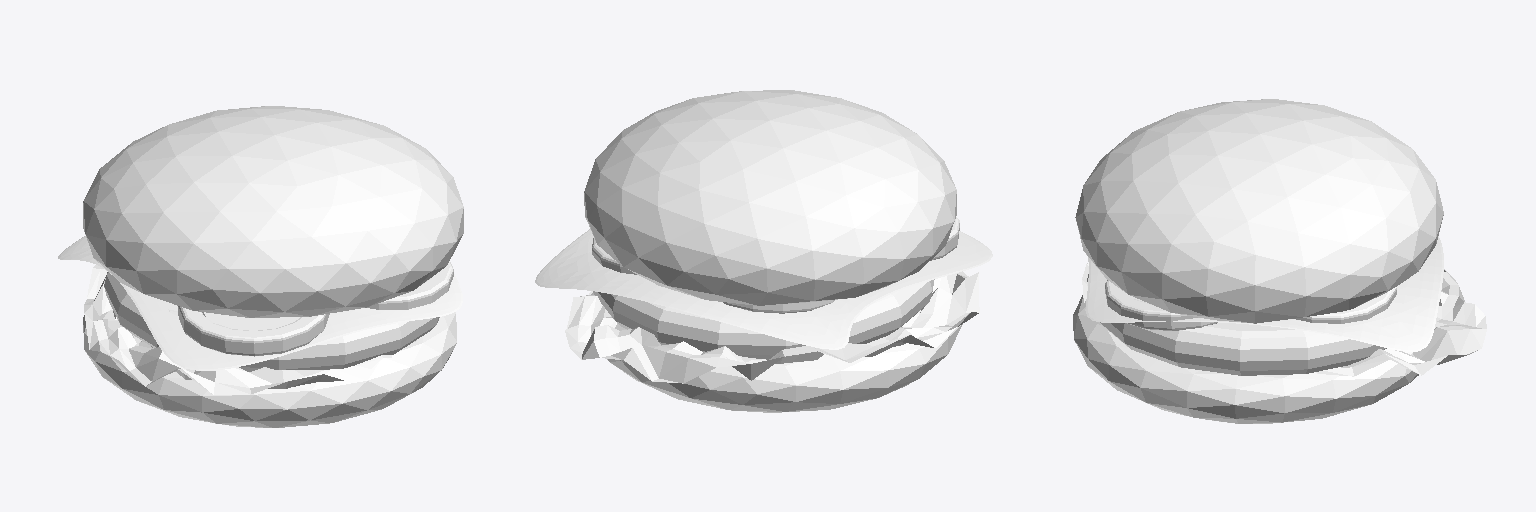
File: paninobake.obj
3 views of the same model, side by side, from view 1: azimuth 30°, elevation 25°; view 2: azimuth 150°, elevation 25°; view 3: azimuth 270°, elevation 25° (orthographic).
Parts seen in each view (by area): view 1: FETTA_SUP, FETTA_gi?, formaggio, lattuga.1, carne.1, Tube_3, Tube.1, Cylinder_3; view 2: FETTA_SUP, lattuga.1, FETTA_gi?, formaggio, carne.1, Tube_1; view 3: FETTA_SUP, FETTA_gi?, carne.1, formaggio, lattuga.1, Tube.1, Tube_2.
Part boxes in pixels (x1,y1,x2,y2): FETTA_SUP: (83, 106, 463, 317); FETTA_gi?: (83, 310, 456, 427); formaggio: (58, 236, 462, 370); lattuga.1: (84, 265, 416, 394); carne.1: (104, 272, 439, 371); Tube_3: (178, 306, 329, 356); Tube.1: (367, 261, 453, 309); Cylinder_3: (202, 312, 299, 330); FETTA_SUP: (584, 90, 956, 305); lattuga.1: (565, 271, 979, 383); FETTA_gi?: (607, 316, 962, 412); formaggio: (535, 229, 992, 349); carne.1: (593, 279, 934, 359); Tube_1: (723, 300, 834, 313); FETTA_SUP: (1075, 99, 1443, 323); FETTA_gi?: (1073, 295, 1418, 423); carne.1: (1087, 274, 1386, 375); formaggio: (1085, 236, 1443, 351); lattuga.1: (1082, 263, 1486, 376); Tube.1: (1105, 280, 1217, 330); Tube_2: (1296, 287, 1396, 323).
Size of the model in its own units: 11.37 by 7.94 by 11.84.